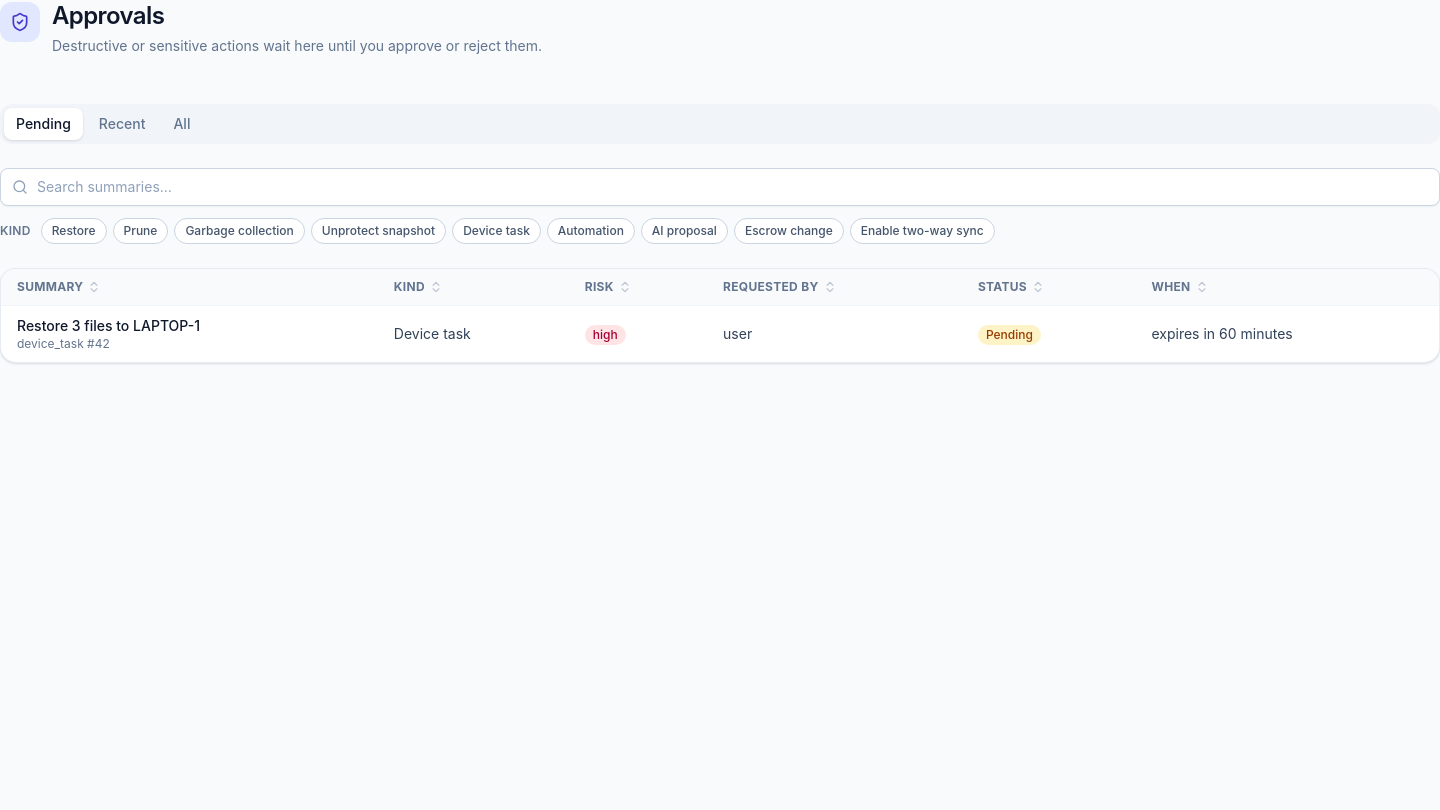
ApprovalsPage › approves a high-risk approval with confirm text
Click the text "Restore 3 files to LAPTOP-1". click: (109, 326)
box: [17,317,200,334]
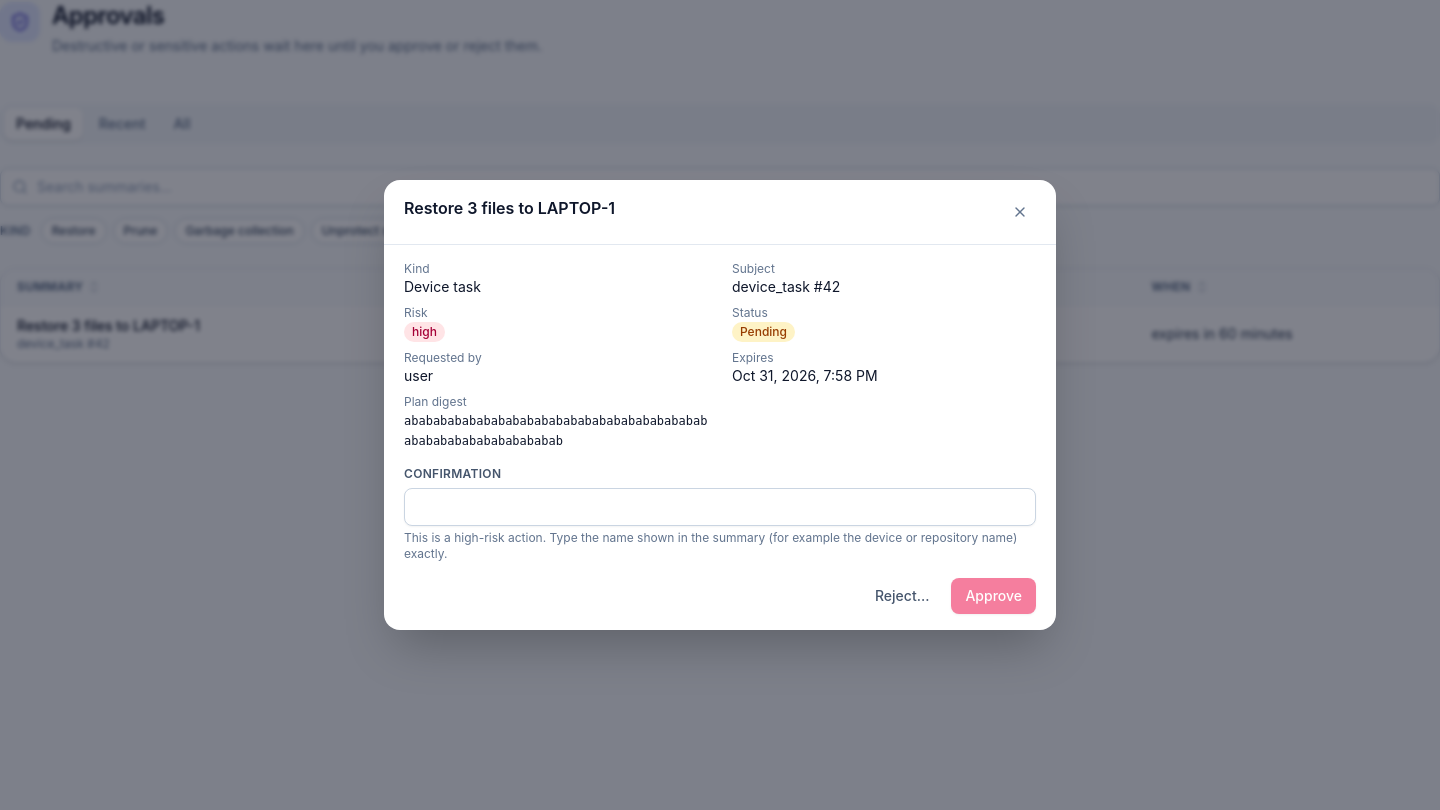
Check: the button "Approve" is disabled, box [951,578,1036,614]
Type "LAPTOP-1" into the field named "Confirmation text". click: (720, 507)
box: [404,488,1036,526]
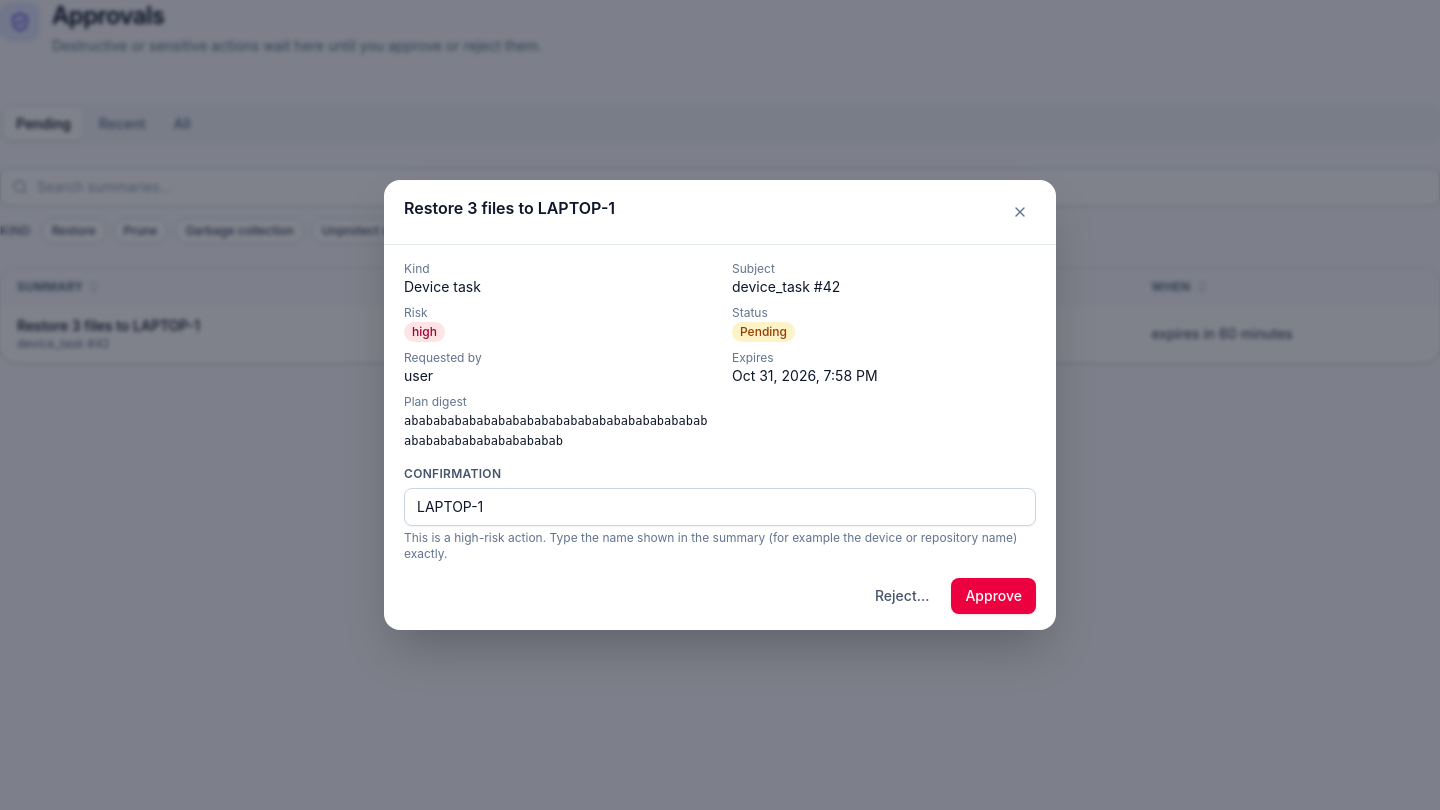
Check: the button "Approve" is enabled
Click the button "Approve". click: (994, 596)
box: [951,578,1036,614]
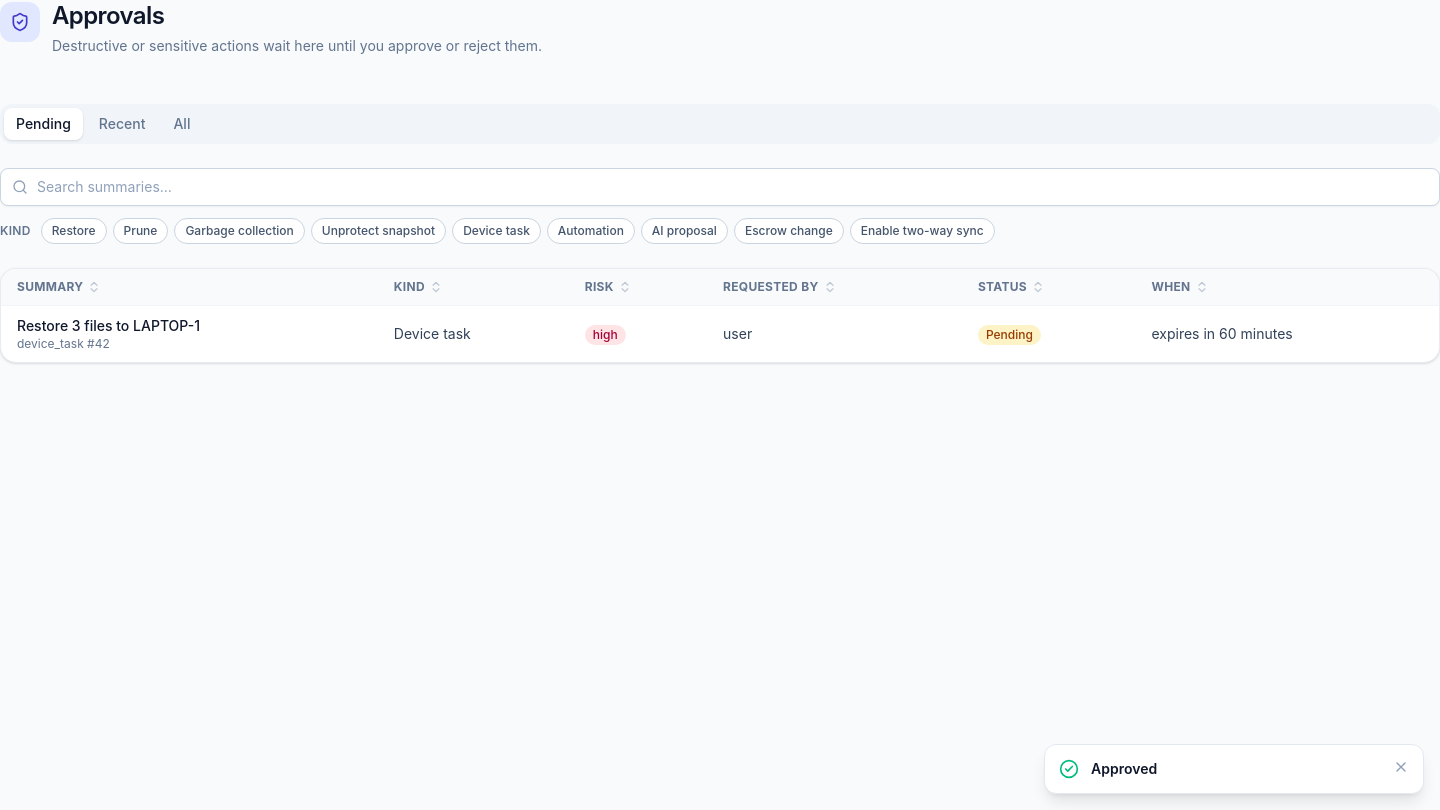
Check: the dialog is gone
Check: the text "Approved" is shown, box [1091,760,1157,777]
